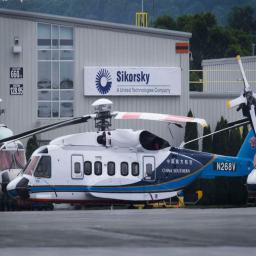helicopter: (3, 54, 255, 210)
